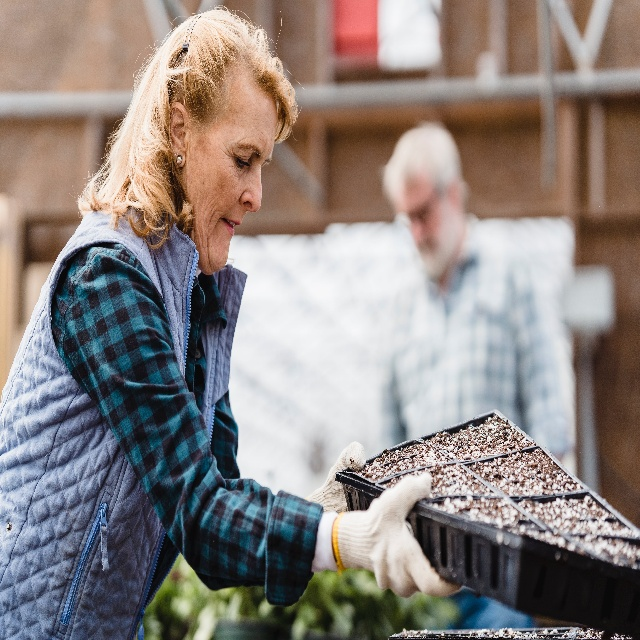Guantes: (328, 465, 461, 597), (302, 439, 367, 512)
